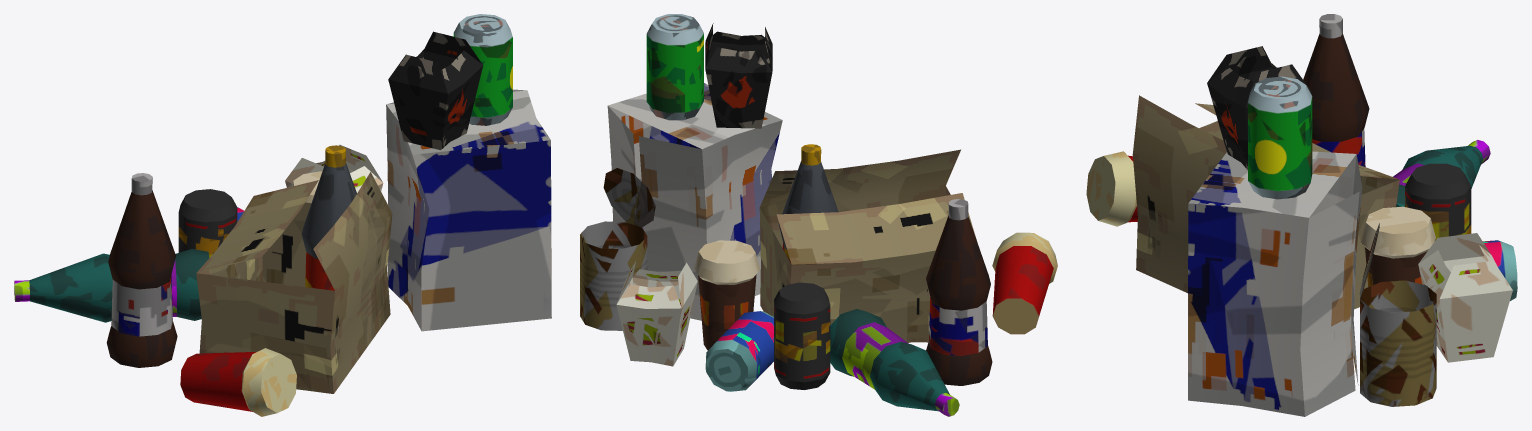
File: Litter_textured.fbx
The picture shows the model from 3 angles, left to right: view 1: azimuth 30°, elevation 25°; view 2: azimuth 150°, elevation 25°; view 3: azimuth 270°, elevation 25°; orthographic projection. The views are drawn at different scales.
Parts seen in each view (by area): view 1: Cube, Cube.001, Cylinder.001, Cube.003, Cylinder.009, Cylinder.008, Cylinder.006, Cylinder.004, Cylinder, Cube.002; view 2: Cube.001, Cube, Cylinder.001, Cylinder.002, Cylinder.008, Cube.002, Cube.003, Cylinder.006, Cylinder, Cylinder.009, Cylinder.003, Cylinder.005 (+1 smaller); view 3: Cube, Cube.001, Cylinder.002, Cube.002, Cylinder.006, Cylinder.001, Cube.003, Cylinder.003, Cylinder, Cylinder.009, Cylinder.008, Cylinder.005.
Boxes of the visible parts, box(x1,y1,x2,y2) form: Cube: box(386, 89, 551, 331); Cube.001: box(196, 172, 392, 393); Cylinder.001: box(106, 173, 177, 367); Cube.003: box(388, 31, 483, 150); Cylinder.009: box(180, 348, 296, 416); Cylinder.008: box(14, 248, 209, 322); Cylinder.006: box(453, 14, 512, 125); Cylinder.004: box(301, 145, 356, 290); Cylinder: box(178, 189, 237, 257); Cube.002: box(285, 144, 383, 192); Cube.001: box(759, 149, 976, 342); Cube: box(607, 83, 782, 320); Cylinder.001: box(926, 199, 992, 385); Cylinder.002: box(580, 168, 655, 330); Cylinder.008: box(830, 309, 959, 416); Cube.002: box(616, 261, 697, 366); Cube.003: box(705, 23, 772, 128); Cylinder.006: box(646, 14, 703, 120); Cylinder: box(774, 282, 830, 389); Cylinder.009: box(992, 232, 1057, 334); Cylinder.003: box(694, 240, 760, 350); Cylinder.005: box(705, 311, 773, 391); Cube: box(1188, 151, 1362, 416); Cube.001: box(1132, 95, 1399, 309); Cylinder.002: box(1359, 223, 1436, 406); Cube.002: box(1418, 233, 1512, 362); Cylinder.006: box(1248, 76, 1312, 199); Cylinder.001: box(1303, 14, 1369, 166); Cube.003: box(1207, 46, 1311, 169); Cylinder.003: box(1360, 206, 1435, 286); Cylinder: box(1405, 163, 1471, 241); Cylinder.009: box(1086, 151, 1137, 226); Cylinder.008: box(1393, 139, 1490, 207); Cylinder.005: box(1483, 240, 1517, 300).
Size of the model in its own units: 131 by 77.39 by 101.
Materials: 1 (1 with a texture image).
